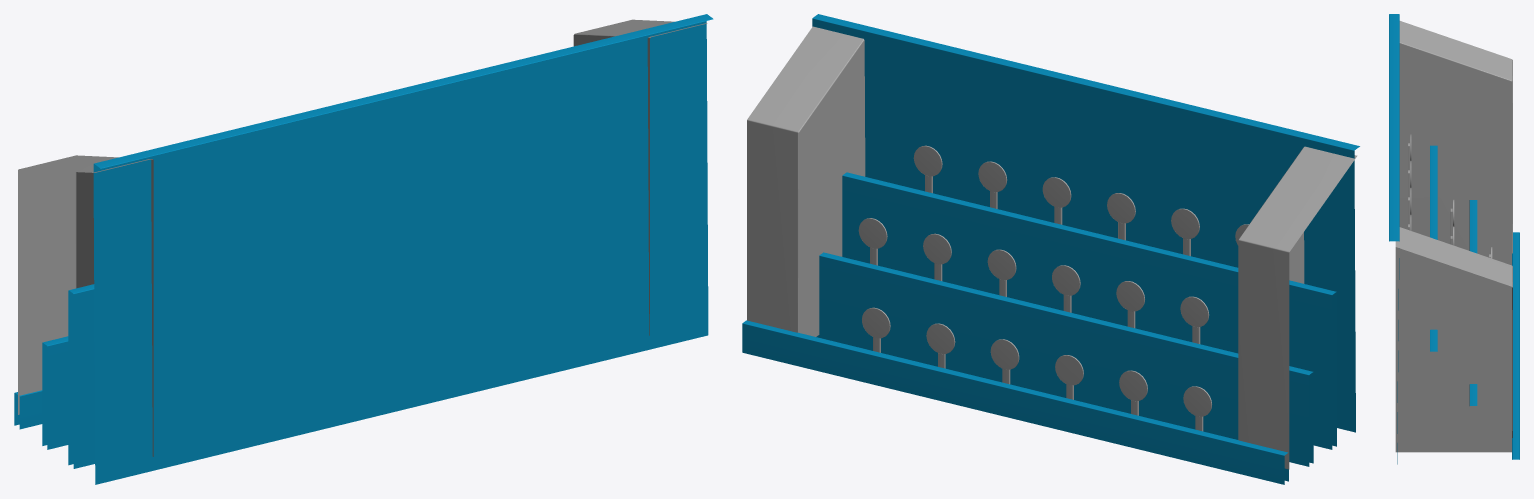
Rendered from SkillShot_Proxy.fbx.
The picture shows the model from 3 angles, left to right: view 1: azimuth 30°, elevation 25°; view 2: azimuth 150°, elevation 25°; view 3: azimuth 270°, elevation 25°; orthographic projection. The views are drawn at different scales.
Visible parts, largest first — view 1: pCube5, pCube29; view 2: pCube5, pCube29, Target11, Target18, Target12, Target09, Target13, Target10, Target20, Target08, Target19, Target17 (+7 smaller); view 3: pCube29, pCube5.
Part boxes in pixels (bbox=[...]): pCube5: bbox=[14, 14, 713, 484]; pCube29: bbox=[18, 19, 707, 456]; pCube5: bbox=[742, 14, 1359, 484]; pCube29: bbox=[747, 26, 1357, 469]; Target11: bbox=[1052, 265, 1080, 312]; Target18: bbox=[1042, 177, 1071, 224]; Target12: bbox=[1116, 281, 1144, 328]; Target09: bbox=[923, 233, 951, 280]; Target13: bbox=[1180, 296, 1209, 343]; Target10: bbox=[987, 249, 1016, 296]; Target20: bbox=[1171, 208, 1199, 256]; Target08: bbox=[858, 218, 887, 265]; Target19: bbox=[1107, 193, 1135, 240]; Target17: bbox=[978, 161, 1007, 208]; pCube29: bbox=[1395, 21, 1512, 452]; pCube5: bbox=[1389, 14, 1519, 464].
Bounding box in the file's own units: 624 × 316 × 151.
